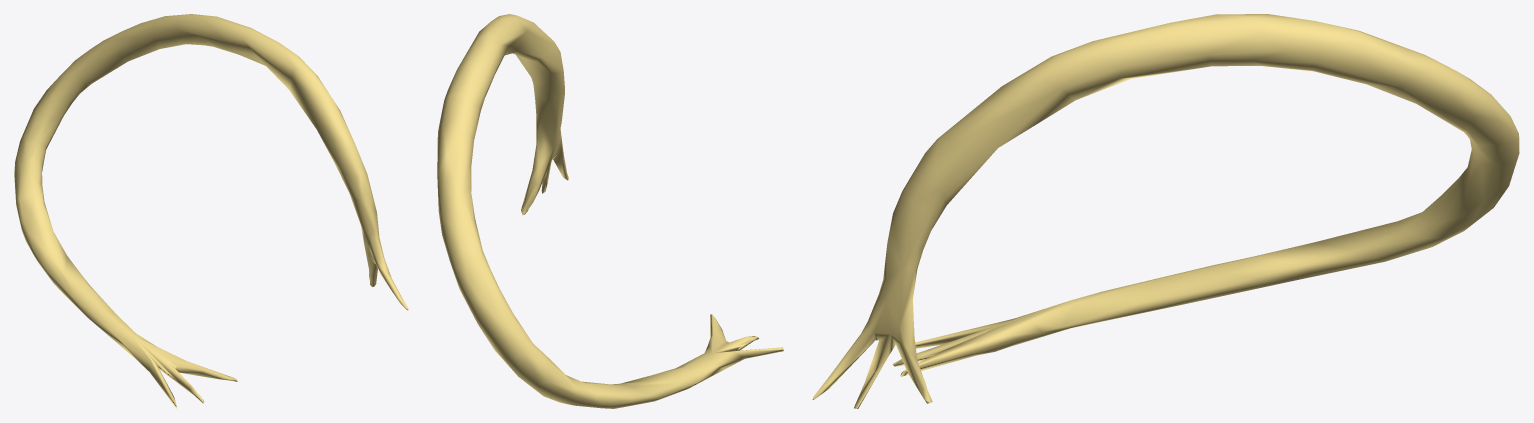
3 views of the same model, side by side, from view 1: azimuth 30°, elevation 25°; view 2: azimuth 150°, elevation 25°; view 3: azimuth 270°, elevation 25° (orthographic). The views are drawn at different scales.
Parts seen in each view (by area): view 1: ZA_c4f2456aaa8950e6; view 2: ZA_c4f2456aaa8950e6; view 3: ZA_c4f2456aaa8950e6.
Part boxes in pixels (<box>): ZA_c4f2456aaa8950e6: <box>14,14,408,408</box>; ZA_c4f2456aaa8950e6: <box>437,14,783,408</box>; ZA_c4f2456aaa8950e6: <box>812,14,1519,408</box>.
Bounding box in the file's own units: 0.0249 × 0.0299 × 0.0423.
